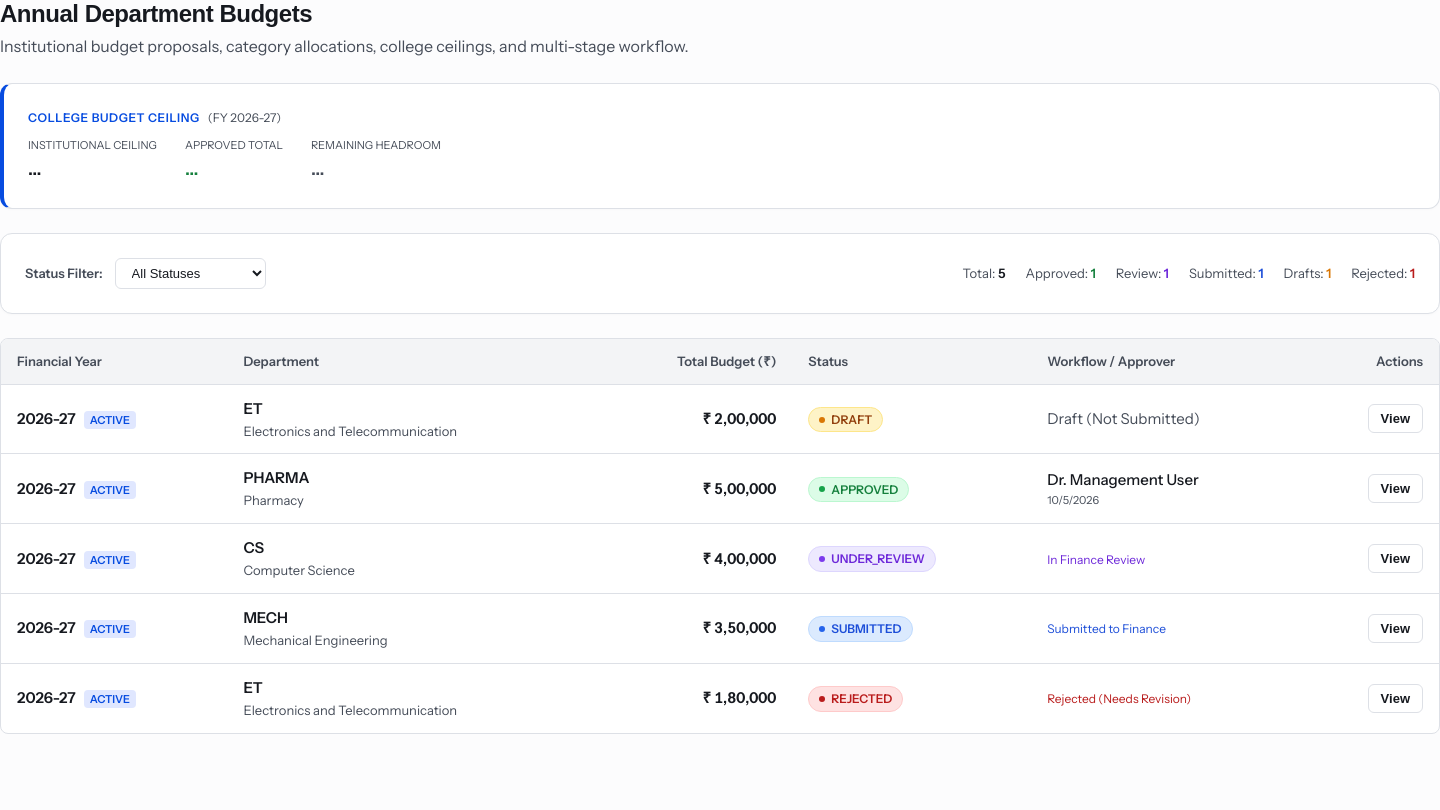
Budgets Module Frontend (Iteration 6: Budgets v2) › BudgetsPage Component › opens detail modal showing prior year actuals comparison and approval trail
This screenshot has width=1440, height=810.
Click the button "View" in the row of "₹ 2,00,000": (1395, 419) [1368,404,1423,434]
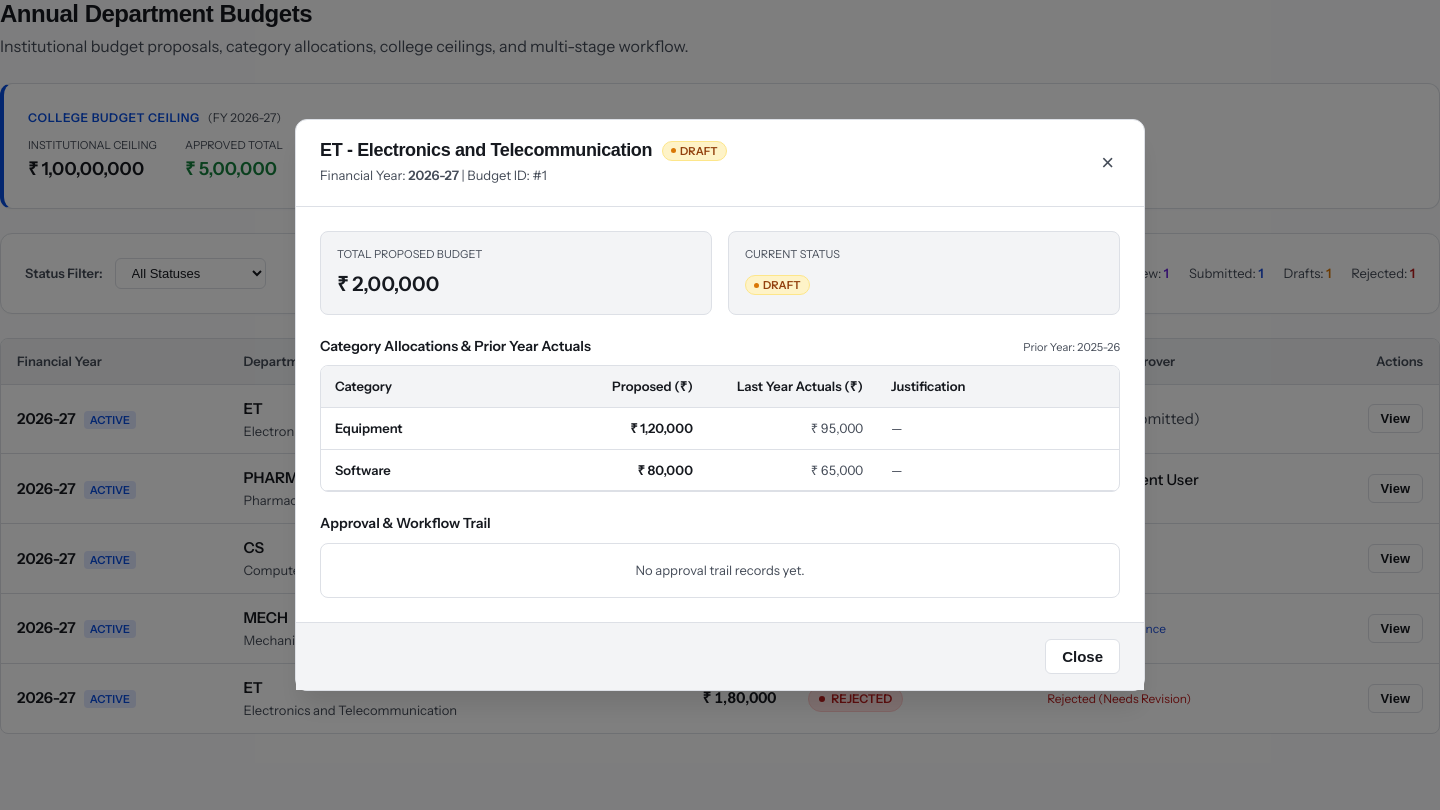
Result: the text "Category Allocations & Prior Year Actuals" is shown at [320,334,591,357]
Result: the text "₹ 95,000" is shown at [707,407,877,449]
Result: the text "Approval & Workflow Trail" is shown at [320,514,491,532]
